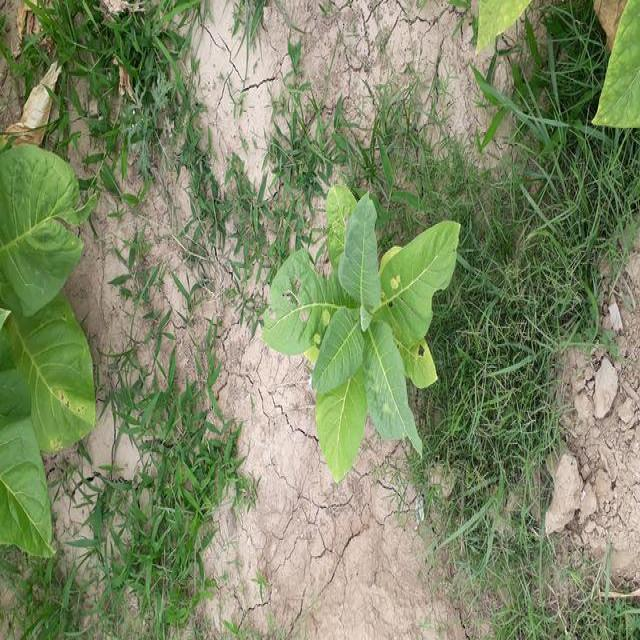crop: (271, 173, 460, 468), (0, 148, 97, 557), (589, 0, 639, 130), (474, 0, 524, 48)
